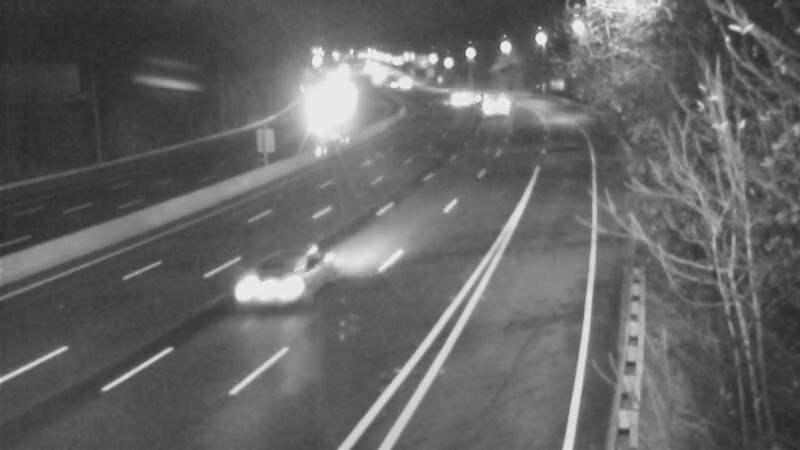vehicle: (233, 239, 313, 319), (373, 57, 423, 107), (360, 58, 410, 108), (431, 69, 481, 119), (456, 72, 506, 122), (469, 78, 519, 128)
